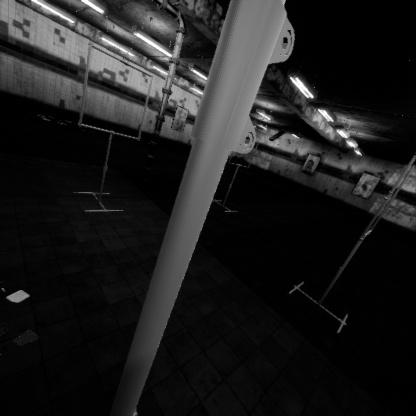gate: (78, 274, 158, 376), (362, 175, 416, 269), (228, 247, 265, 295)
